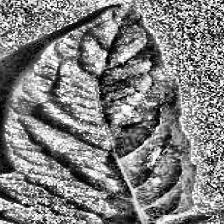spider mites: (0, 2, 207, 224)
